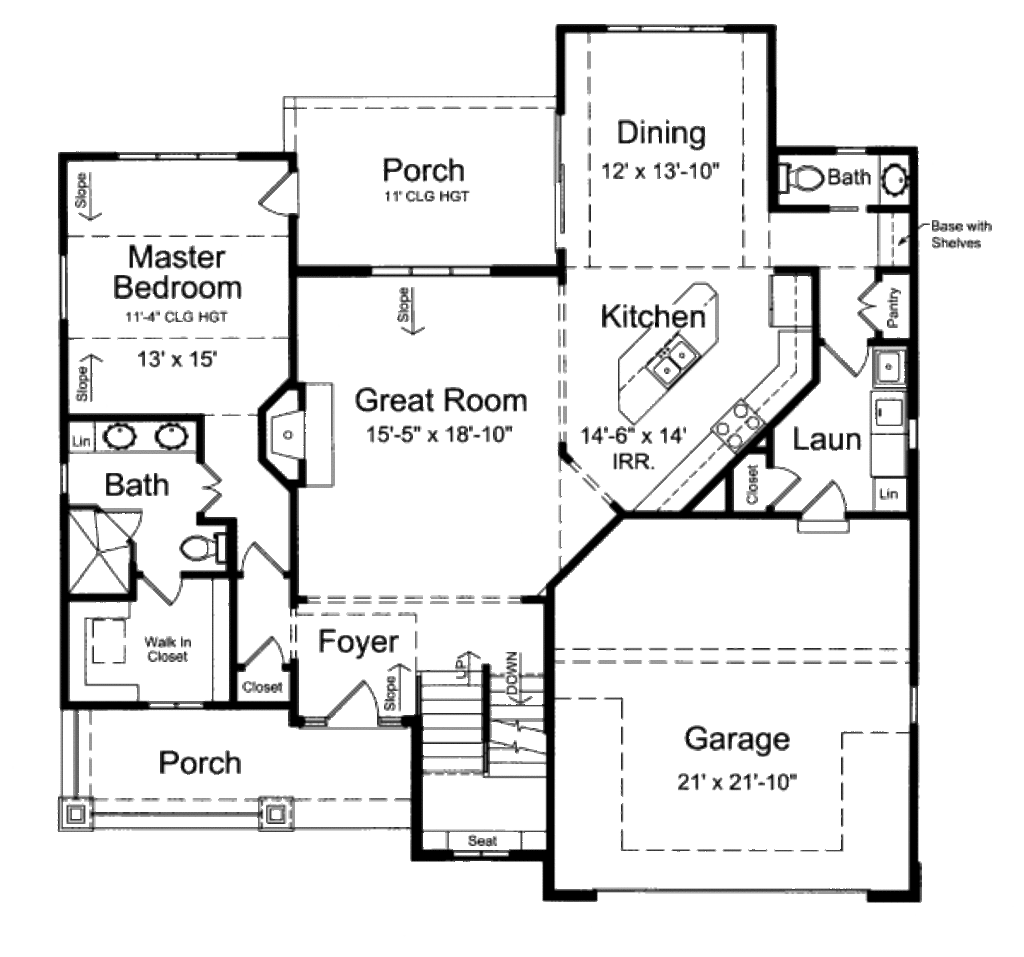door: (328, 677, 387, 724), (849, 271, 889, 337), (805, 478, 856, 528), (261, 167, 311, 215), (140, 567, 194, 611), (819, 337, 872, 381), (193, 459, 230, 517), (231, 542, 284, 578), (239, 634, 289, 671), (771, 464, 797, 508)
kitchen_bar: (617, 284, 718, 420)
large_sink: (769, 145, 833, 199), (180, 531, 233, 559)
small_sink: (89, 412, 190, 456), (877, 146, 909, 203)
stairs: (418, 658, 547, 828)
twin_sink: (637, 325, 700, 399)
window: (362, 256, 496, 281), (606, 18, 722, 39)
